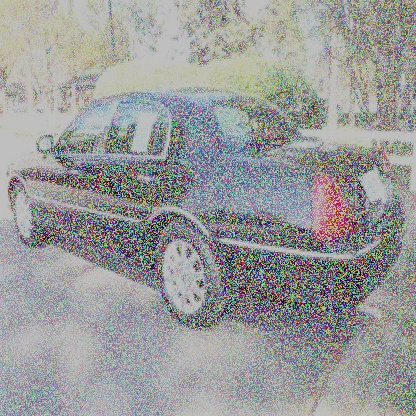Vehicle: (1, 83, 414, 338)
